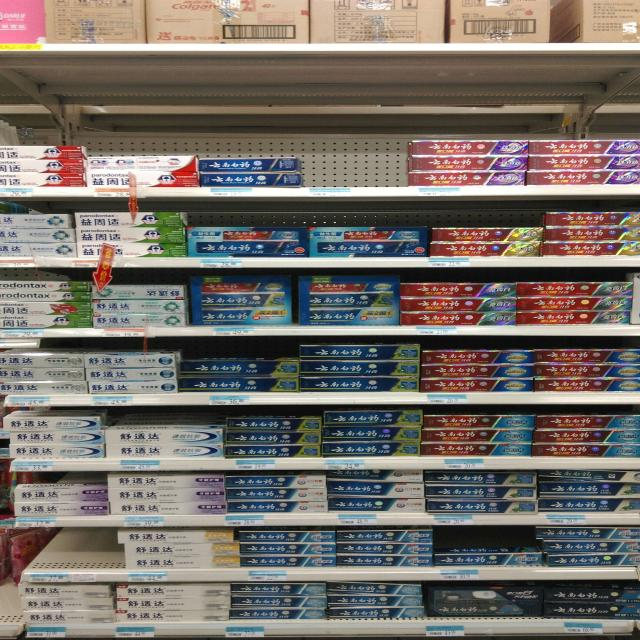void: (307, 138, 361, 197), (362, 139, 409, 196), (37, 530, 77, 582), (76, 530, 112, 581)
